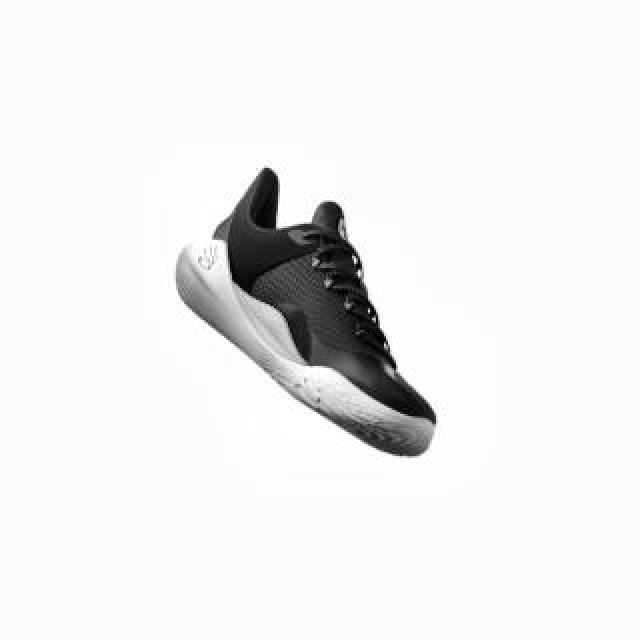shoe: (173, 168, 441, 456)
